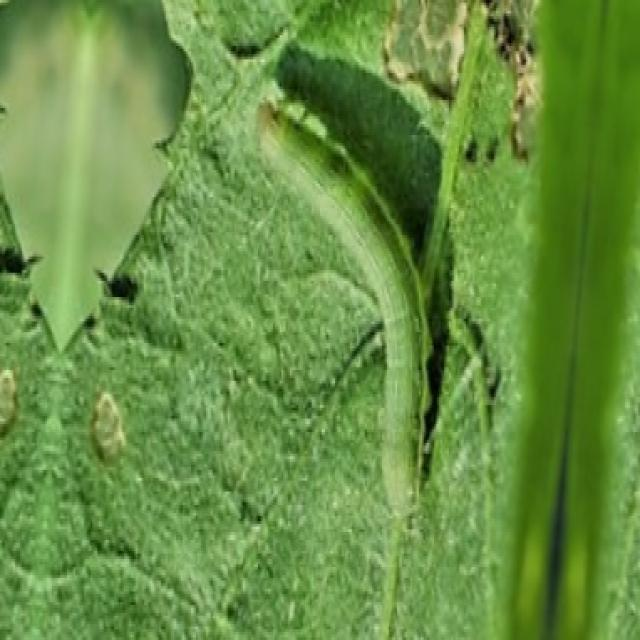armyworm: (257, 96, 431, 529)
